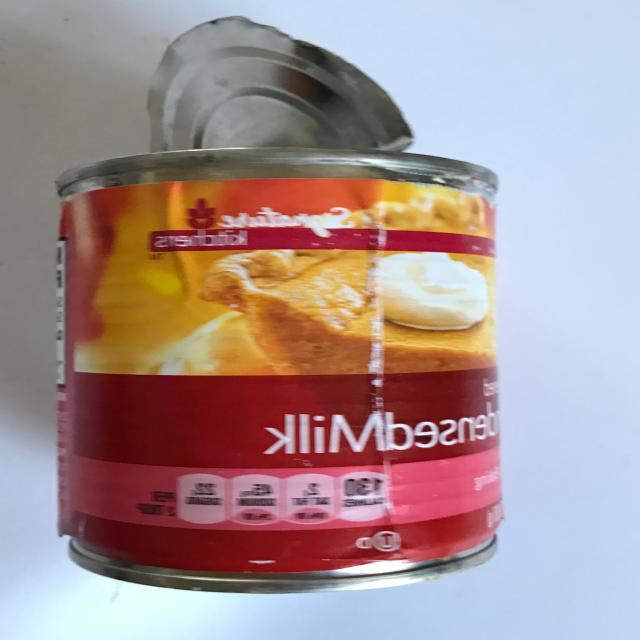metal: (30, 0, 525, 612)
